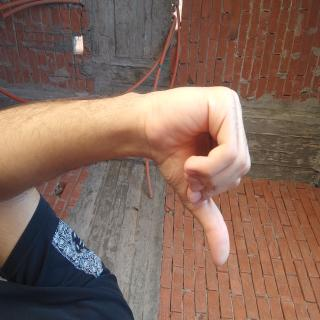WAW: (57, 86, 203, 257)
